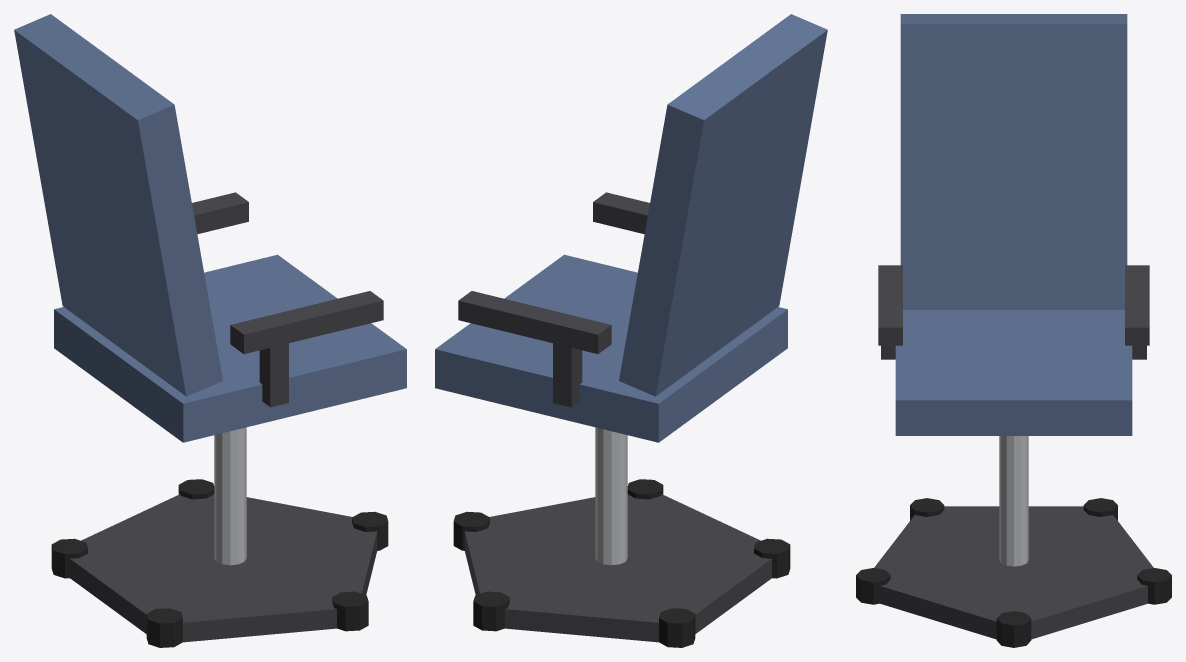
The model's file is SM_Prop_OfficeChair.glb.
The picture shows the model from 3 angles, left to right: view 1: azimuth 30°, elevation 25°; view 2: azimuth 150°, elevation 25°; view 3: azimuth 270°, elevation 25°; orthographic projection. The views are drawn at different scales.
Visible parts, largest first — view 1: SM_Prop_OfficeChair; view 2: SM_Prop_OfficeChair; view 3: SM_Prop_OfficeChair.
Part boxes in pixels (left/top/right/bottom): SM_Prop_OfficeChair: left=14, top=14, right=406, bottom=647; SM_Prop_OfficeChair: left=435, top=14, right=827, bottom=647; SM_Prop_OfficeChair: left=856, top=14, right=1171, bottom=647.
Size of the model in its own units: 0.6665 by 1.12 by 0.6406.
